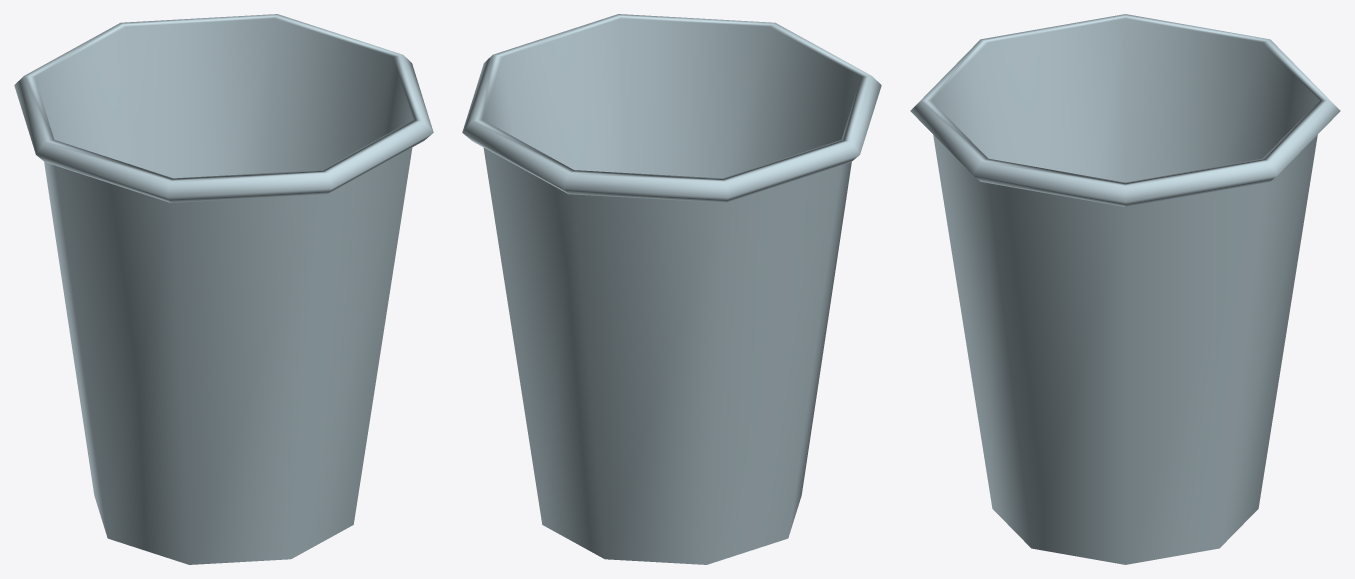
Rendered from SM_Cup.fbx.
3 renders of one model, left to right at view 1: azimuth 30°, elevation 25°; view 2: azimuth 150°, elevation 25°; view 3: azimuth 270°, elevation 25°, orthographic.
Visible parts, largest first — view 1: SM_Cup; view 2: SM_Cup; view 3: SM_Cup.
Boxes of the visible parts, x1,y1,x2,y2 form: SM_Cup: (14,14,433,564); SM_Cup: (462,14,881,564); SM_Cup: (910,14,1340,564).
Bounding box in the file's own units: 0.086 × 0.09 × 0.086.
1 material, 1 textured.
